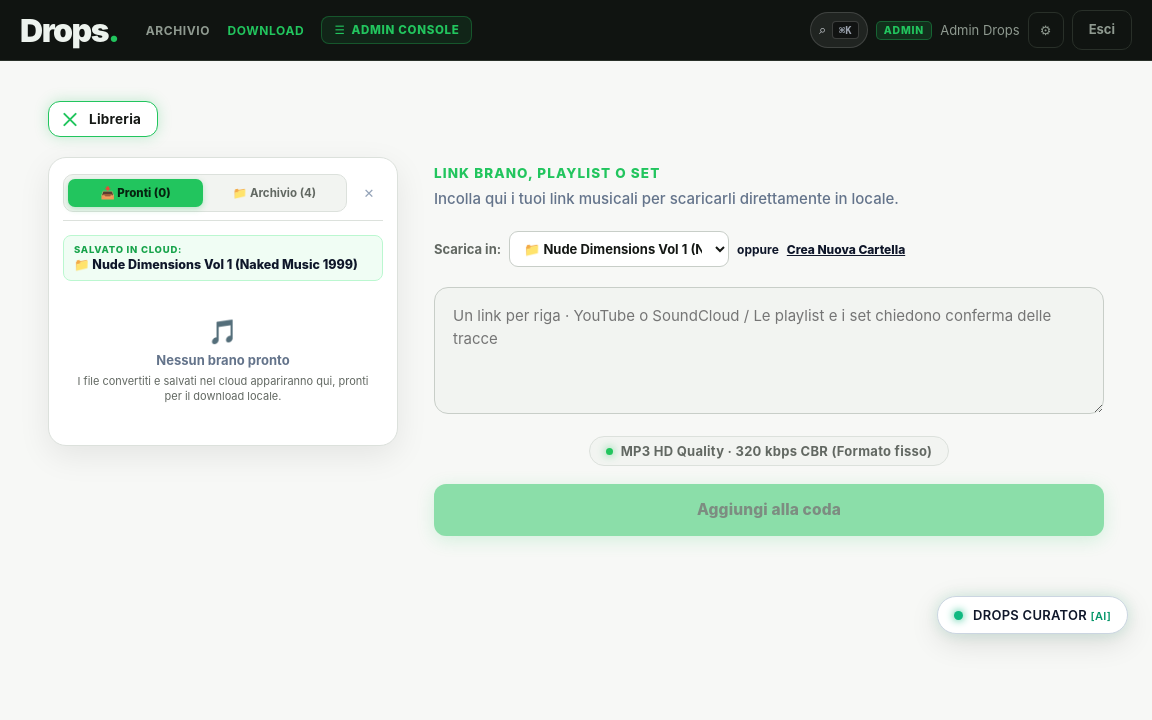
Test: autenticazione App › espone cassetto Admin Console per utente admin con accesso a tutte le sezioni
The width and height of the screenshot is (1152, 720).
Click the button "☰ Admin Console": {"x": 397, "y": 30} left=322, top=16, right=472, bottom=44
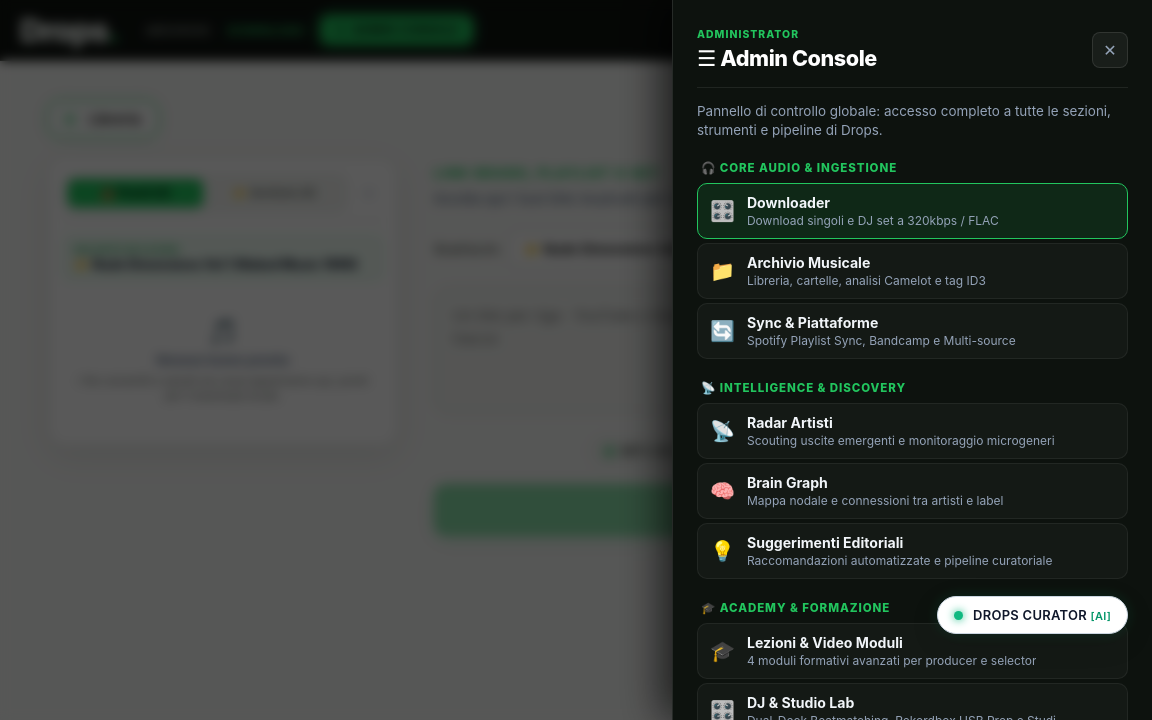
Check: the button "☰ Admin Console" is expanded, box left=322, top=16, right=472, bottom=44
Check: the dialog "Admin Console" is shown, box left=672, top=0, right=1151, bottom=719
